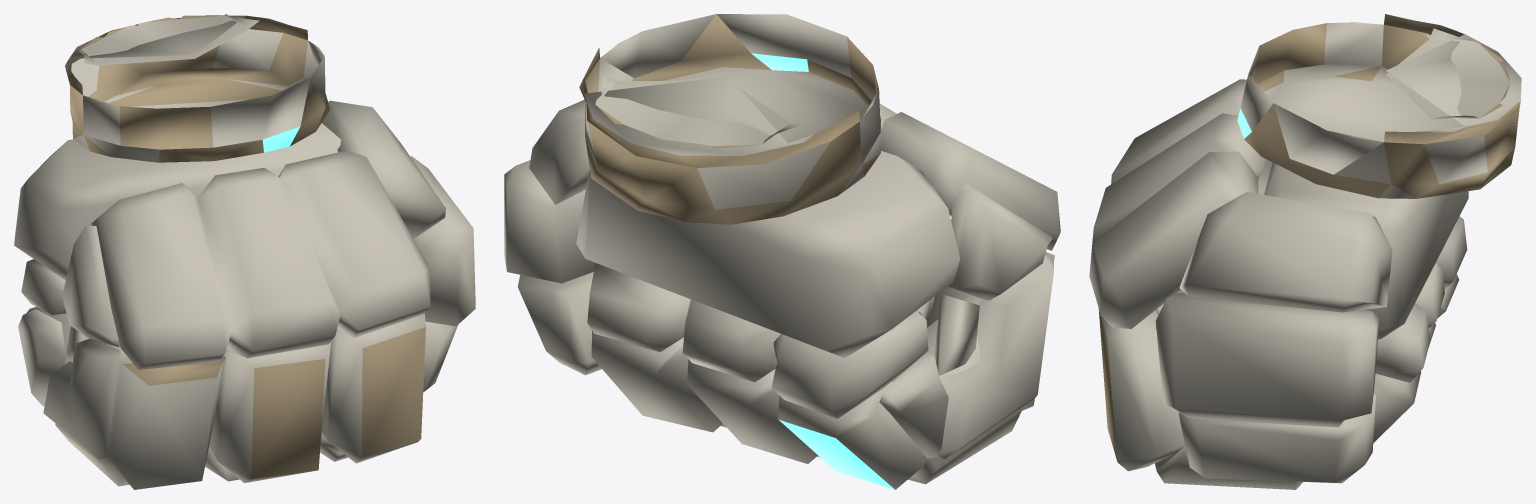
File: BossFist.glb
3 renders of one model, left to right at view 1: azimuth 30°, elevation 25°; view 2: azimuth 150°, elevation 25°; view 3: azimuth 270°, elevation 25°, orthographic. The views are drawn at different scales.
Visible parts, largest first — view 1: BossFist_Bend.004, PART_BossFist.004; view 2: BossFist_Bend.004, PART_BossFist.004; view 3: BossFist_Bend.004, PART_BossFist.004.
Boxes of the visible parts, x1=… form: BossFist_Bend.004: x1=14, y1=29, x2=475, y2=489; PART_BossFist.004: x1=65, y1=14, x2=325, y2=149; BossFist_Bend.004: x1=504, y1=14, x2=1060, y2=489; PART_BossFist.004: x1=579, y1=14, x2=880, y2=167; BossFist_Bend.004: x1=1089, y1=24, x2=1519, y2=489; PART_BossFist.004: x1=1240, y1=14, x2=1521, y2=174.
Bounding box in the file's own units: 1.14 × 0.9383 × 0.9797.
